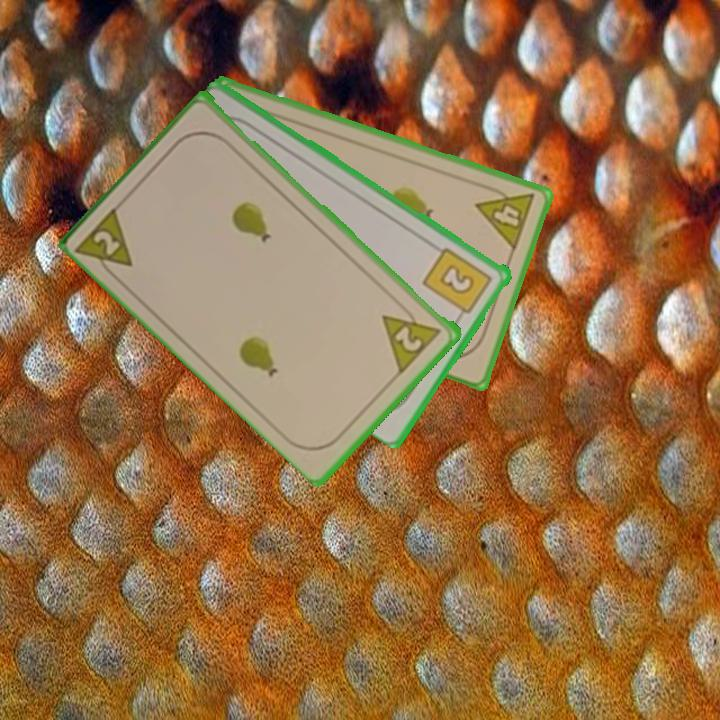2b: (420, 243, 496, 323)
2p: (73, 201, 137, 285), (379, 299, 445, 375)
4p: (472, 180, 538, 254)
